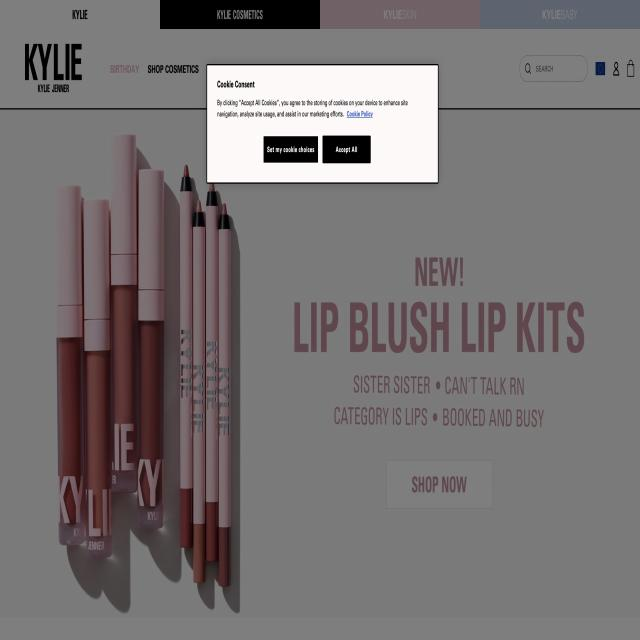Logo: (20, 38, 89, 111)
Navigation: (103, 57, 490, 86)
